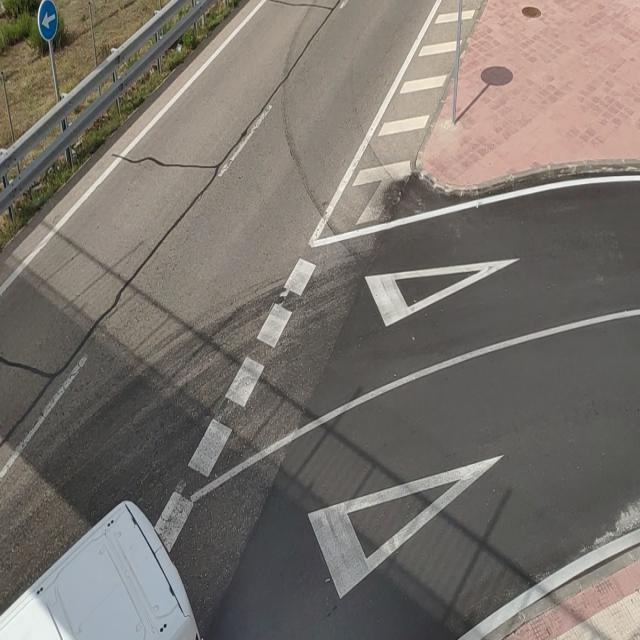Van: (0, 492, 212, 640)
